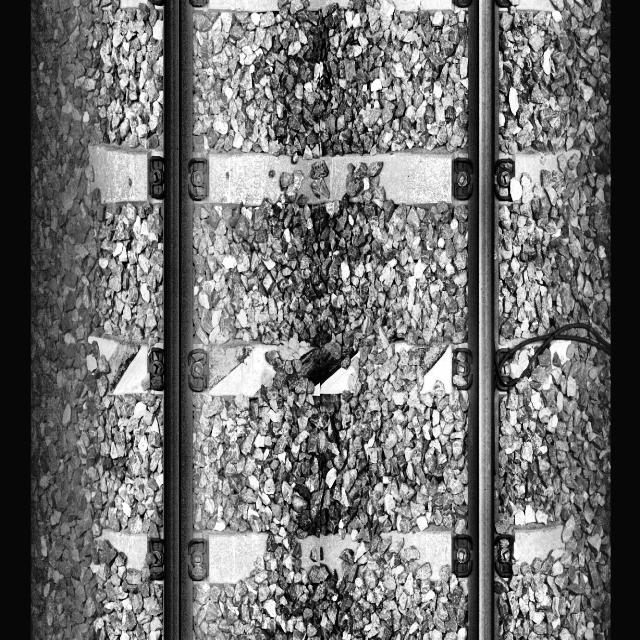Clips: (449, 530, 474, 578), (186, 533, 210, 580), (453, 344, 473, 399), (186, 349, 211, 392), (186, 156, 210, 200), (450, 156, 472, 201), (493, 534, 514, 577), (493, 346, 512, 390), (495, 158, 515, 198), (148, 154, 165, 200), (148, 347, 165, 390), (147, 537, 164, 573)
Sleepers: (82, 316, 576, 404), (86, 137, 551, 207), (112, 523, 580, 587)
